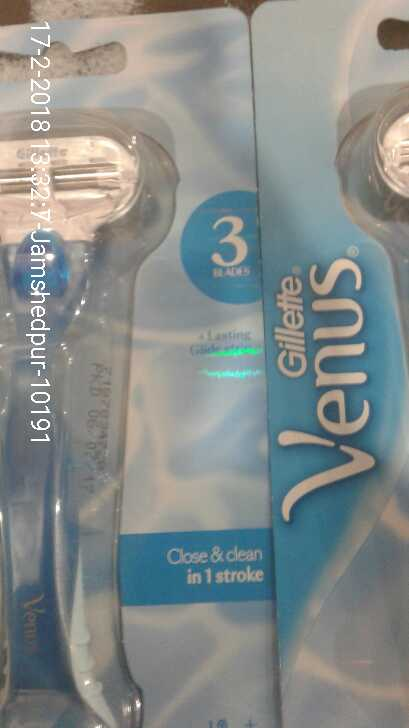venus: (1, 111, 178, 728)
